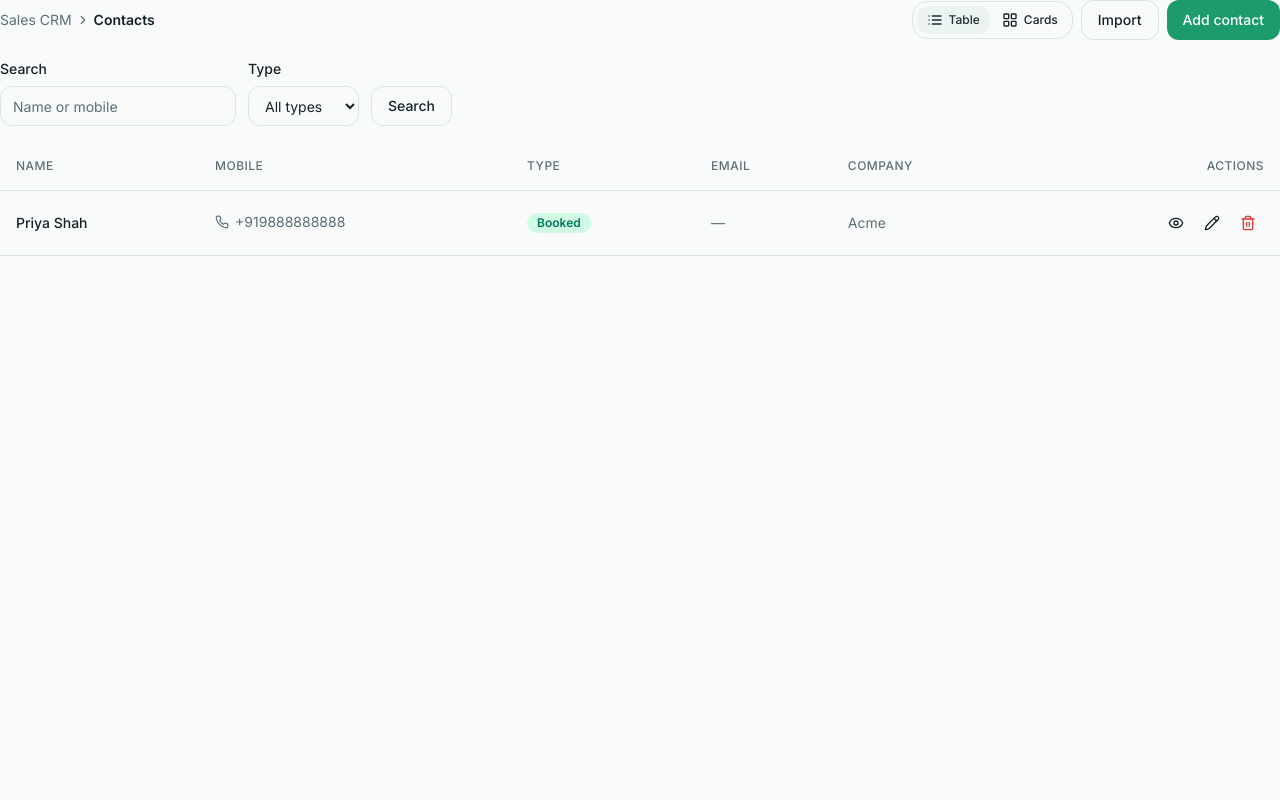
Scenario: CRM modules › shows the current booking tab on the contact view
Click the button named "View".
click(1176, 222)  # box [1160,206,1192,238]
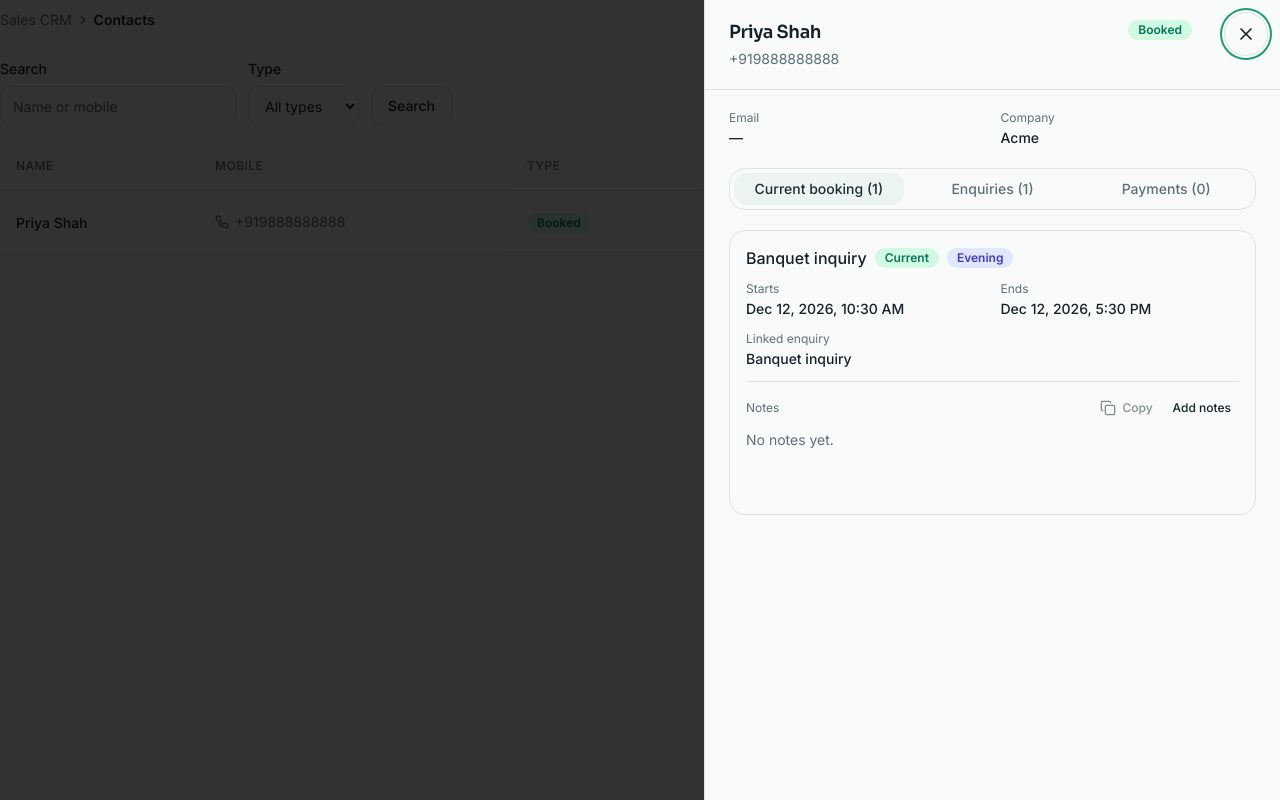
Check: the tab "Current booking (1)" is shown, box [734,173,904,205]
Check: the text "Evening" is shown, box [947,248,1013,268]
Check: the text "Linked enquiry" is shown, box [746,331,830,346]
